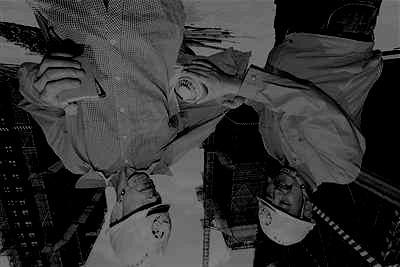helmet: (106, 173, 173, 267), (255, 174, 316, 246)
